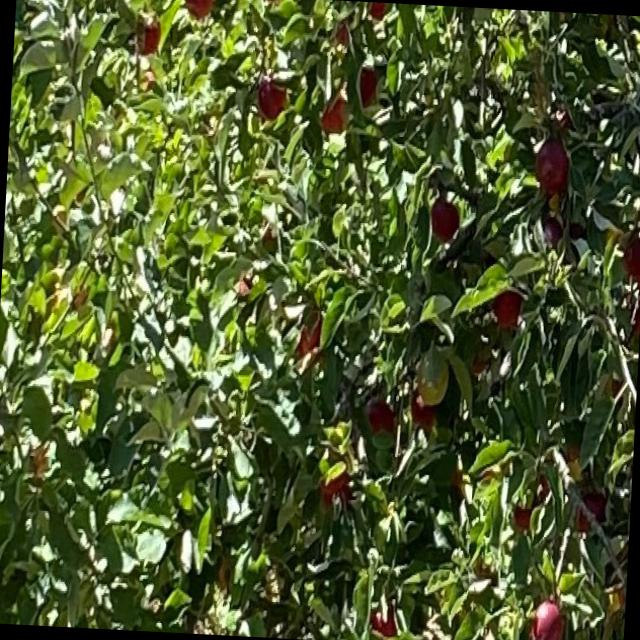Apples: (514, 469, 550, 530), (536, 138, 569, 192), (428, 195, 462, 242), (531, 599, 567, 639), (318, 92, 352, 134), (407, 384, 438, 430), (495, 286, 525, 331), (296, 308, 325, 354), (256, 76, 286, 120), (318, 461, 350, 502), (365, 395, 396, 434), (134, 15, 162, 56), (358, 60, 380, 109), (181, 0, 218, 24), (623, 234, 639, 284)
